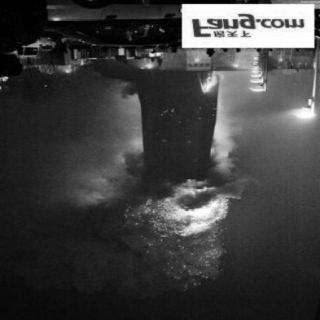Fire: (190, 70, 238, 178)
Smoke: (26, 196, 222, 310)
